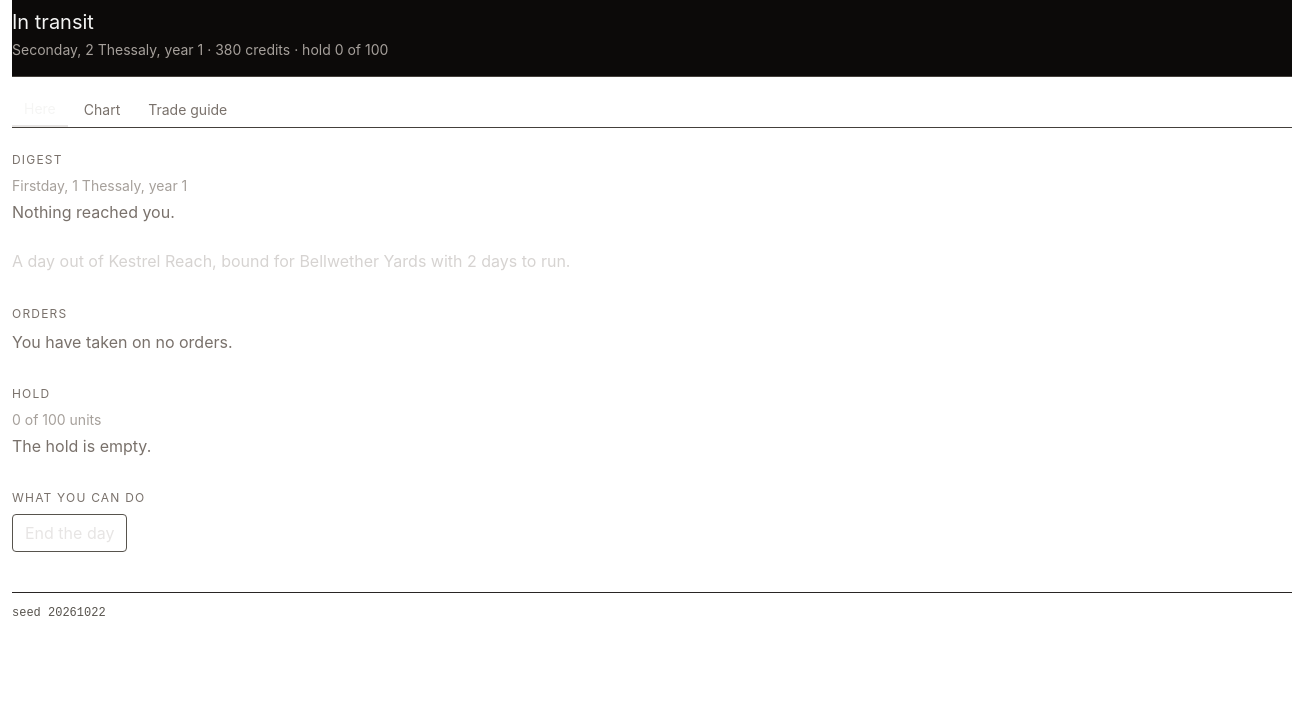
Test: the trade guide on the page › dates what was seen and says how old it is once the player has left
The image size is (1292, 720).
Click the tab "Trade guide": (188, 110) [136,93,239,127]
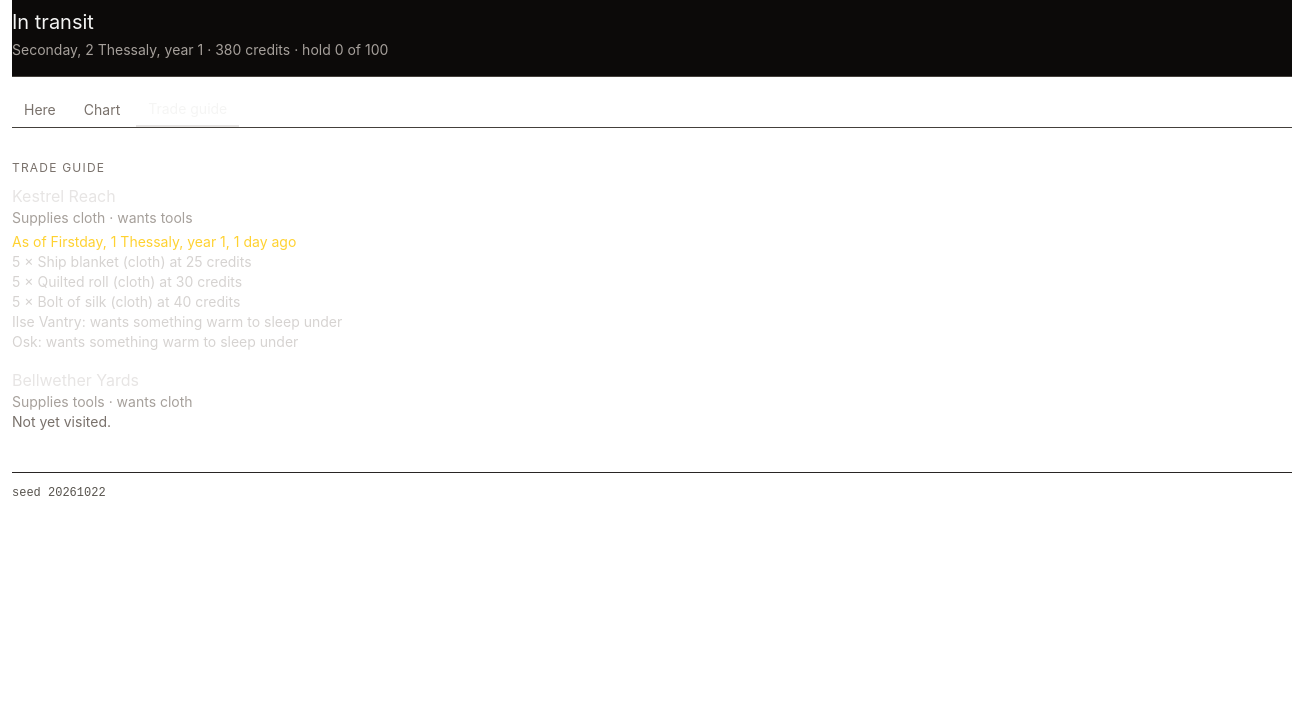
Expected: the list item "Kestrel Reach" shows "As of Firstday, 1 Thessaly, year 1, 1 day ago", [12,186,342,350]
Expected: the list item "Kestrel Reach" shows "Ship blanket", [38,253,119,270]
